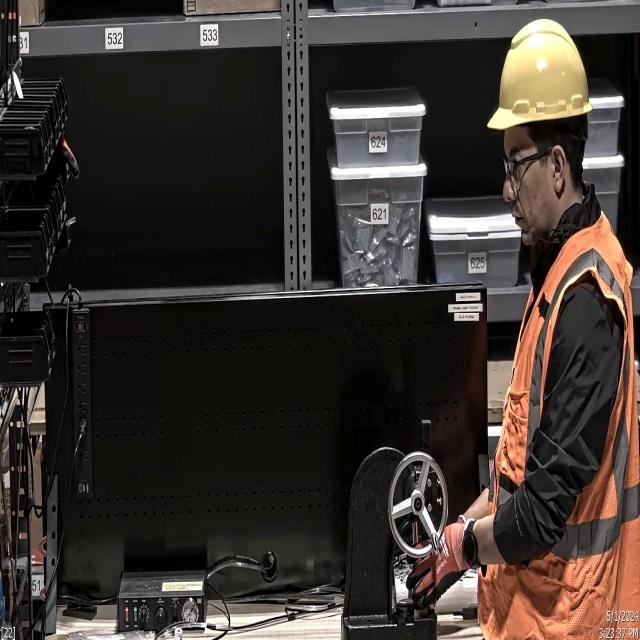gloves: (403, 518, 475, 612)
